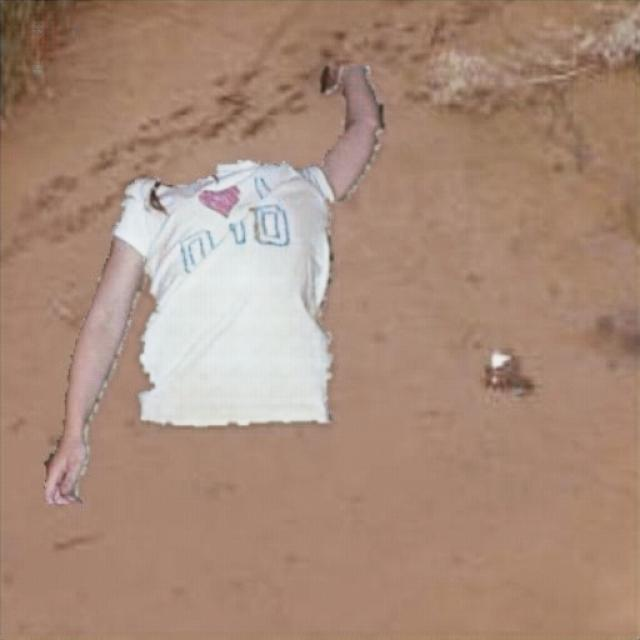Person in Rubble: (44, 66, 382, 502)
